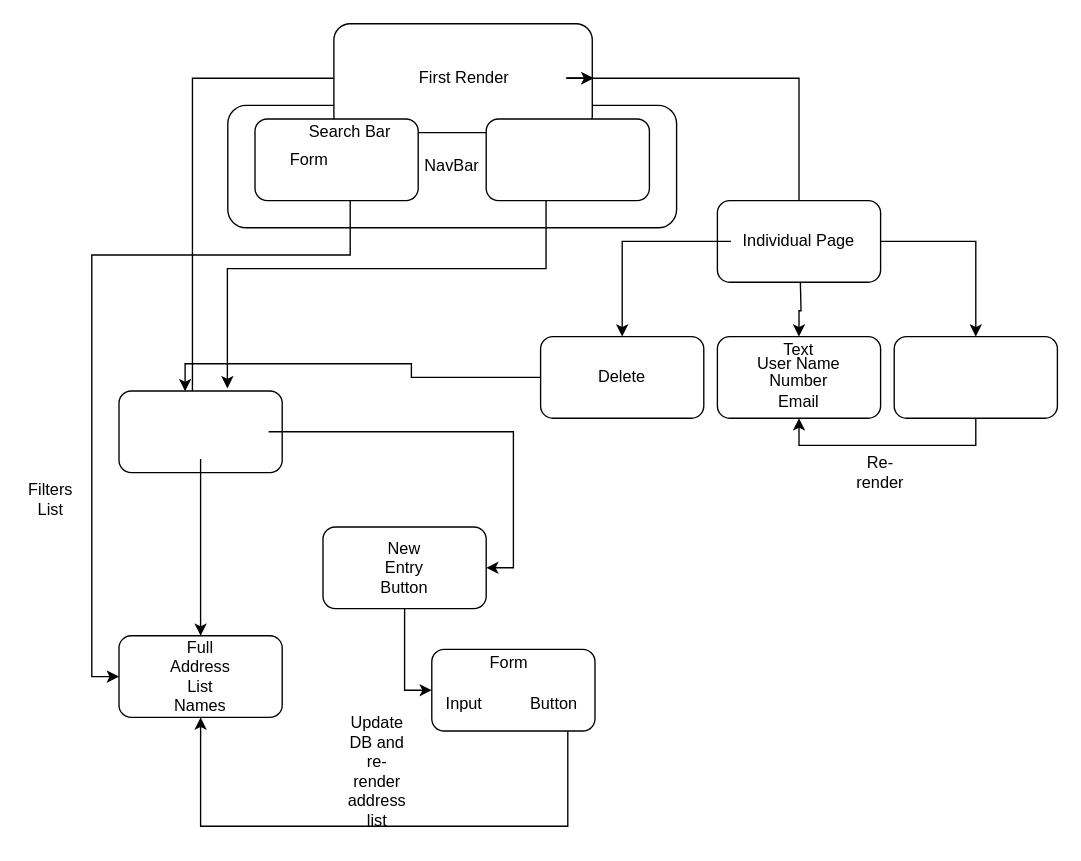
Image size: 1081x861. Some labels were removed from this diagram. The centre of each missing label's shape, as x and y in pixels:
"Edit" belongs at point (975, 376).
"Home" belongs at point (567, 159).
"Main Page" belongs at point (200, 431).
